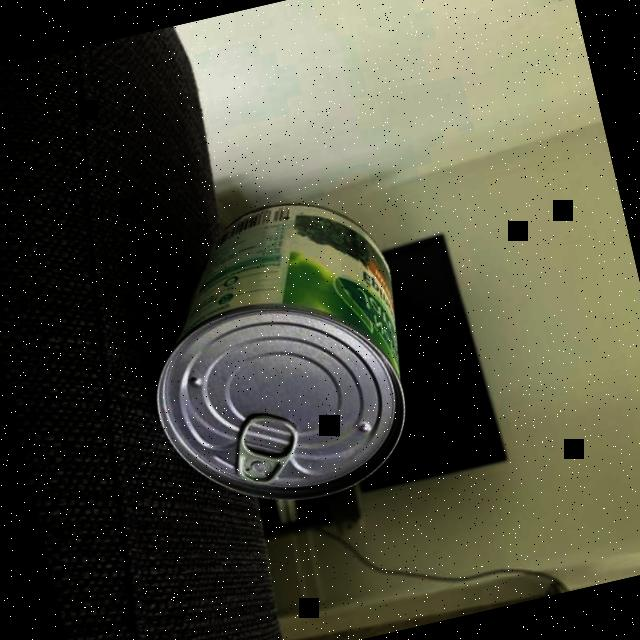can: (110, 176, 440, 534)
